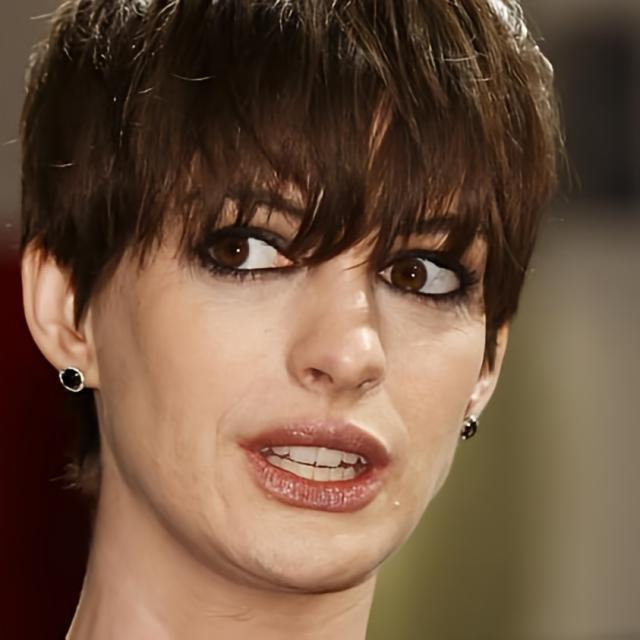disgust: (98, 57, 490, 596)
